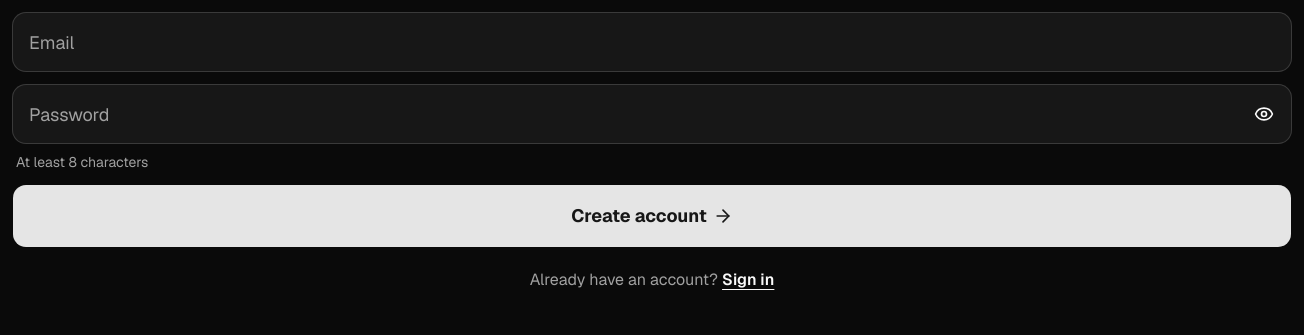
SignUpForm › refuses an address that cannot be an email
The width and height of the screenshot is (1304, 335).
Type "ana" into the field labelled "Email" at [652, 42], box [12,12,1292,72]
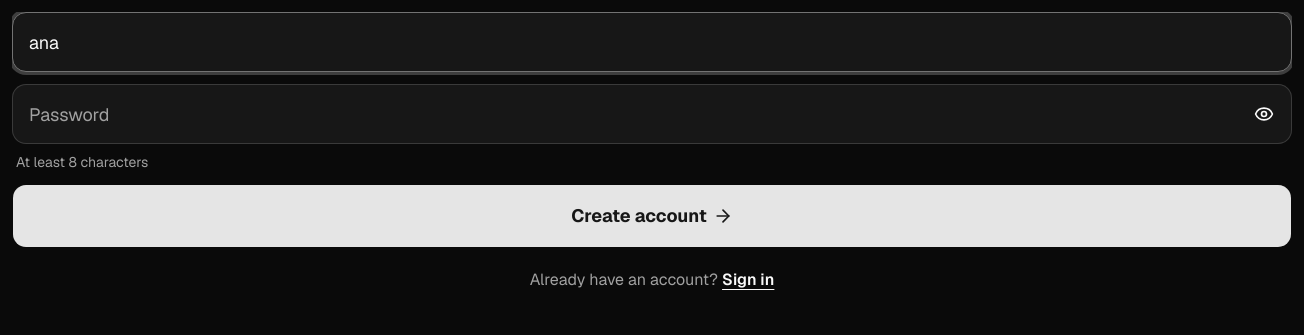
Type "correct horse" into the password field labelled "Password" at [652, 114], box [12,84,1292,144]
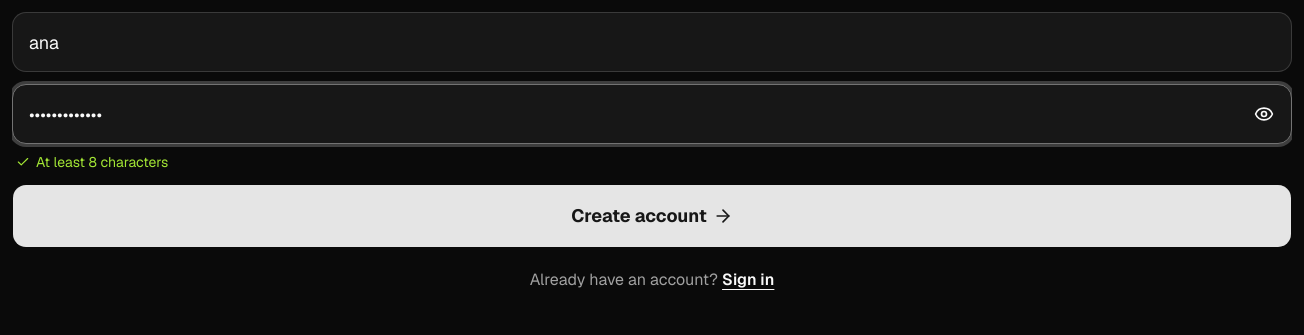
Click the button "Create account" at [652, 216], box [12,184,1292,248]
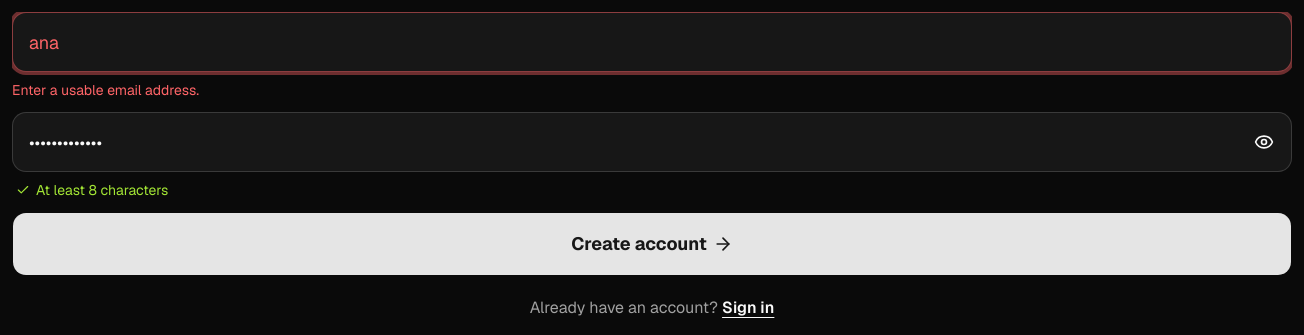
Result: the text "Enter a usable email address." is shown at [12,81,199,99]
